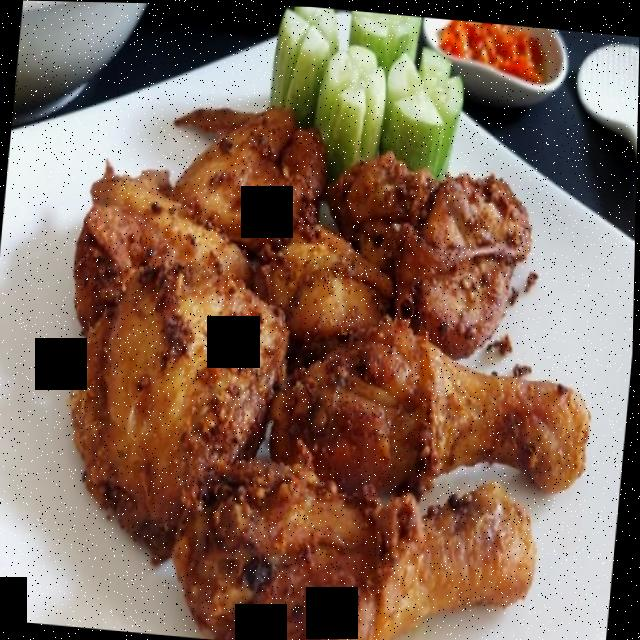Frango: (46, 158, 301, 579), (169, 450, 549, 640), (267, 306, 602, 507), (157, 98, 389, 338), (318, 150, 536, 362)
